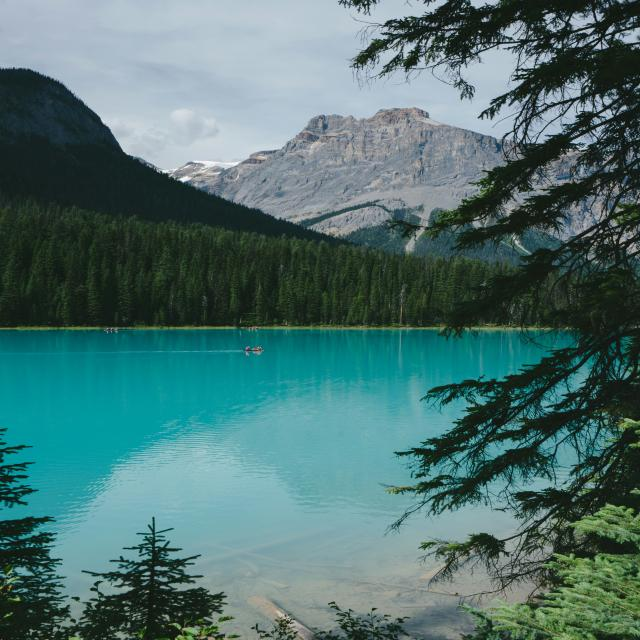Forest: (1, 41, 640, 640)
